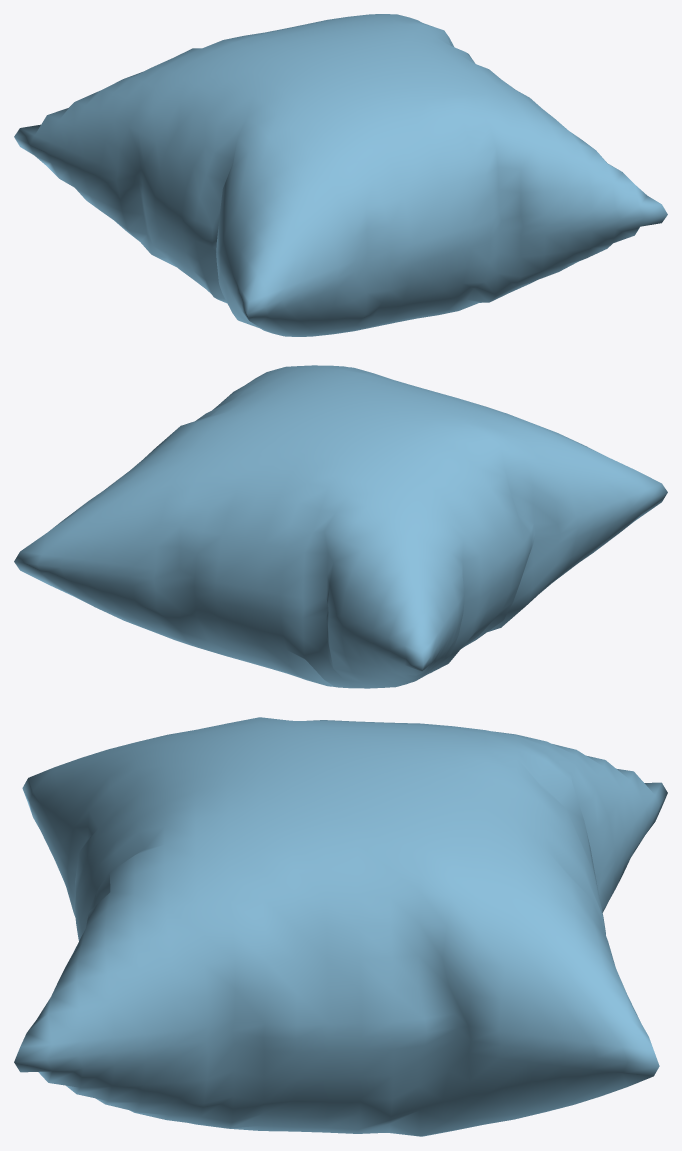
File: KissenBlau.fbx
The picture shows the model from 3 angles, top to bottom: view 1: azimuth 30°, elevation 25°; view 2: azimuth 150°, elevation 25°; view 3: azimuth 270°, elevation 25°; orthographic projection. The views are drawn at different scales.
Parts seen in each view (by area): view 1: Plane; view 2: Plane; view 3: Plane.
Part boxes in pixels (x1,y1,x2,y2): Plane: (14,14,667,336); Plane: (14,365,667,688); Plane: (14,717,667,1136).
Size of the model in its own units: 194 by 104 by 193.
Materials: 1 (1 with a texture image).
